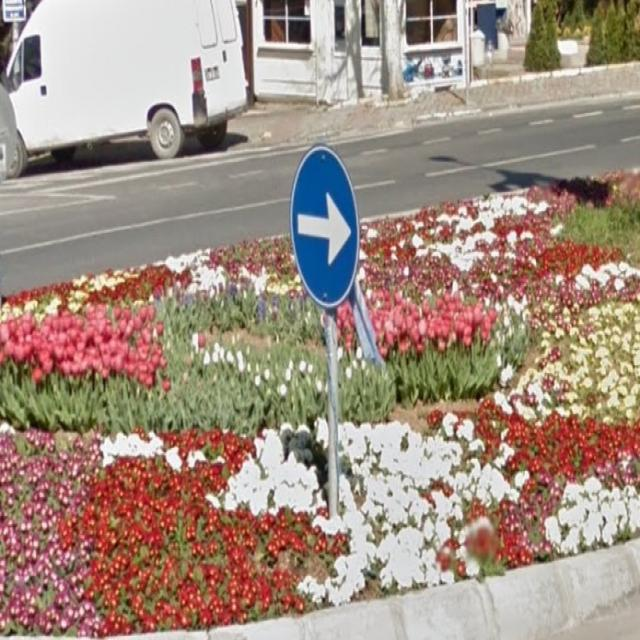Turn Right: (292, 151, 364, 306)
